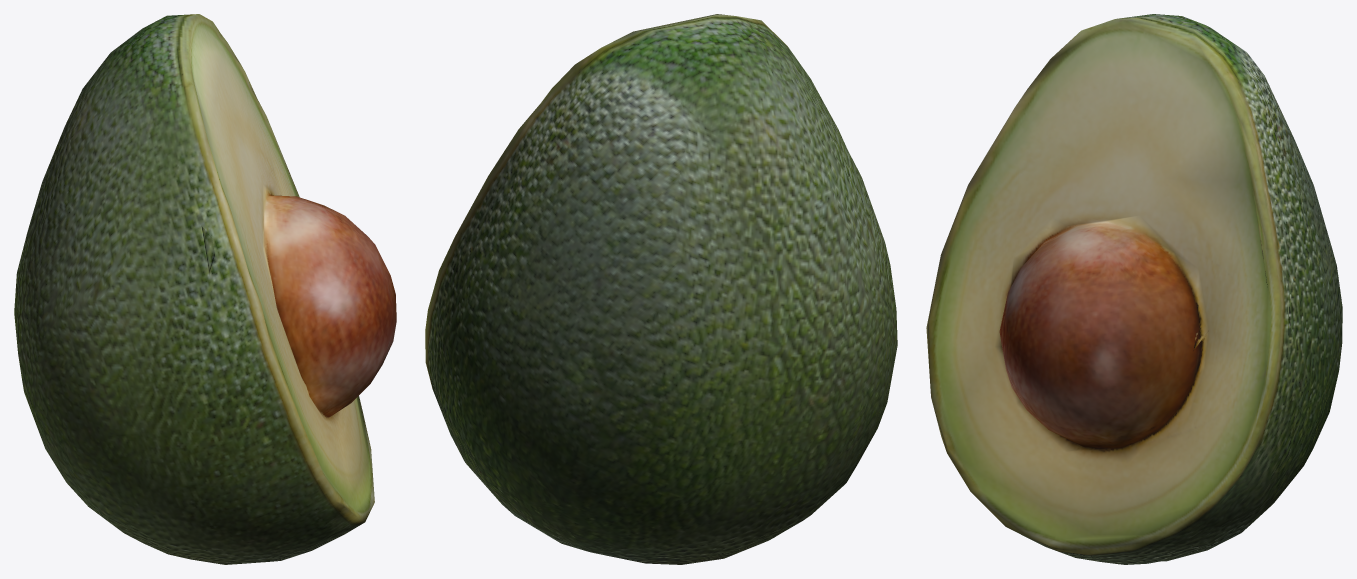
The model's file is Food_Avocado.fbx.
3 views of the same model, side by side, from view 1: azimuth 30°, elevation 25°; view 2: azimuth 150°, elevation 25°; view 3: azimuth 270°, elevation 25° (orthographic). The views are drawn at different scales.
Visible parts, largest first — view 1: Food_Avocado; view 2: Food_Avocado; view 3: Food_Avocado.
Part boxes in pixels (left/top/right/bottom): Food_Avocado: left=14, top=14, right=396, bottom=564; Food_Avocado: left=425, top=14, right=897, bottom=564; Food_Avocado: left=926, top=14, right=1342, bottom=564.
Bounding box in the file's own units: 0.251 × 0.3452 × 0.26.
1 material, 1 textured.
